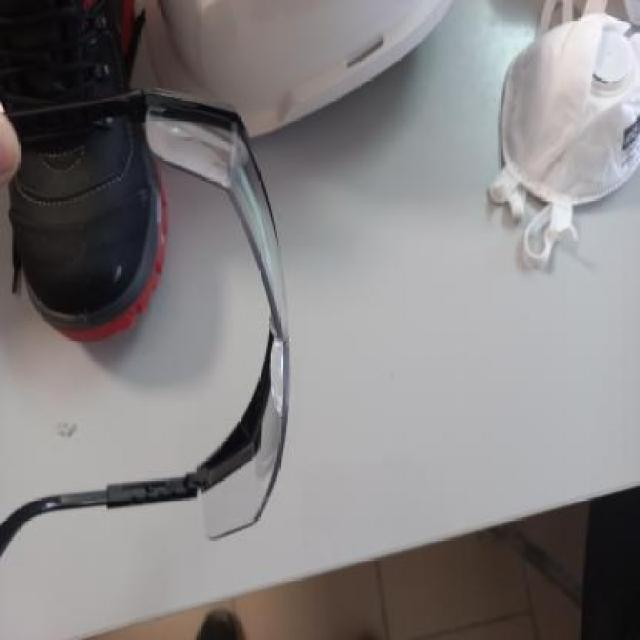Boots: (4, 18, 168, 318)
Mask: (489, 8, 640, 220)
Protective Glasses: (126, 74, 309, 538)
